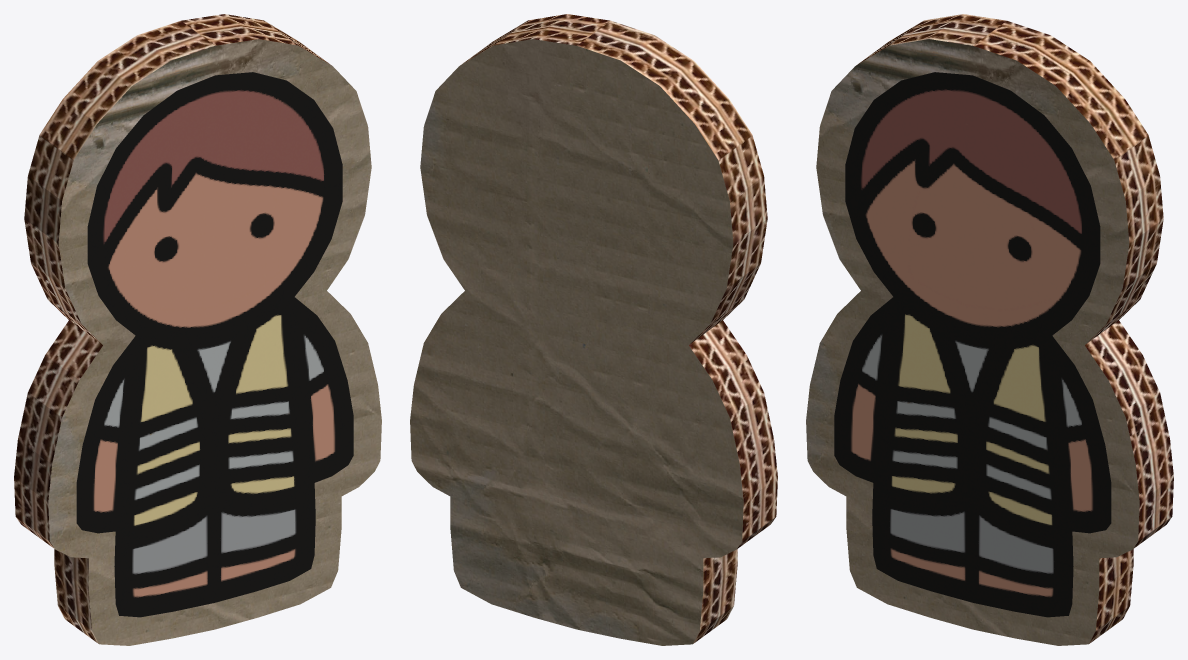
The model's file is character2.fbx.
The picture shows the model from 3 angles, left to right: view 1: azimuth 30°, elevation 25°; view 2: azimuth 150°, elevation 25°; view 3: azimuth 330°, elevation 25°; orthographic projection.
Visible parts, largest first — view 1: char2; view 2: char2; view 3: char2.
Part boxes in pixels (<box>): char2: <box>14,14,381,645</box>; char2: <box>410,14,777,645</box>; char2: <box>806,14,1173,645</box>.
Bounding box in the file's own units: 44.98 × 75.18 × 8.
